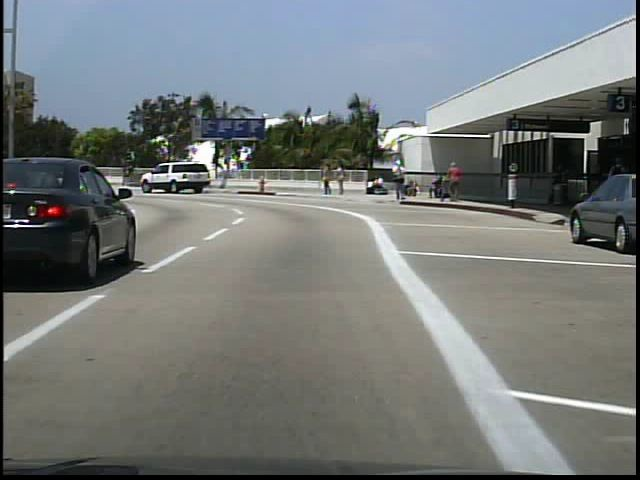person: (601, 152, 628, 222), (392, 157, 408, 205), (448, 160, 465, 201), (337, 162, 349, 199), (365, 176, 386, 196), (323, 161, 335, 196)
